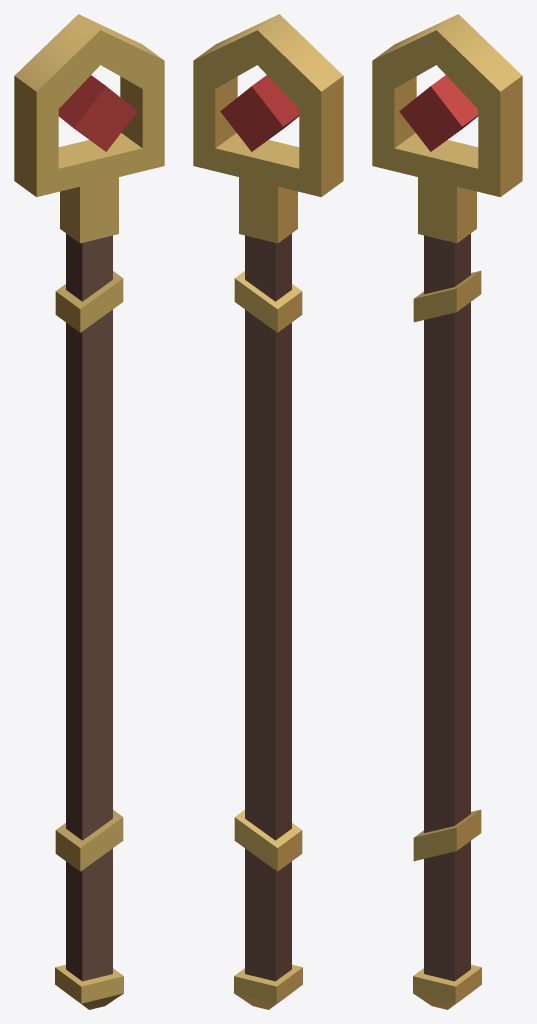
File: SF_Wep_Elven_Staff_01.fbx
3 views of the same model, side by side, from view 1: azimuth 30°, elevation 25°; view 2: azimuth 150°, elevation 25°; view 3: azimuth 330°, elevation 25° (orthographic).
Visible parts, largest first — view 1: SF_Wep_Elven_Staff_01; view 2: SF_Wep_Elven_Staff_01; view 3: SF_Wep_Elven_Staff_01.
Part boxes in pixels (<box>): SF_Wep_Elven_Staff_01: <box>14,14,164,1009</box>; SF_Wep_Elven_Staff_01: <box>193,14,343,1009</box>; SF_Wep_Elven_Staff_01: <box>372,14,522,1009</box>.
Size of the model in its own units: 0.4493 by 3.29 by 0.2042.
